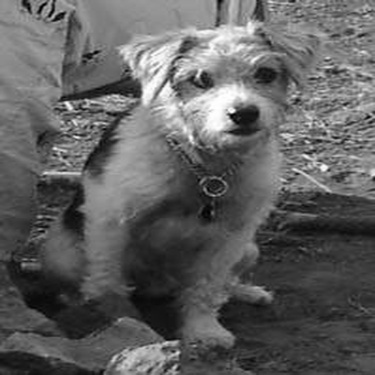dog: (1, 12, 332, 363)
